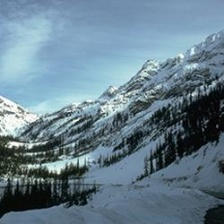neutral: (1, 120, 223, 205)
